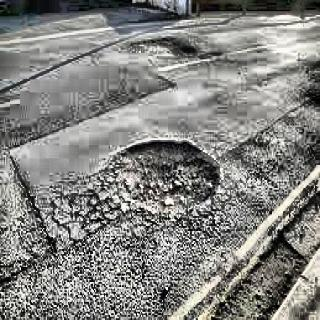alligator-crack: (0, 172, 163, 274)
pothole: (113, 138, 218, 220)
